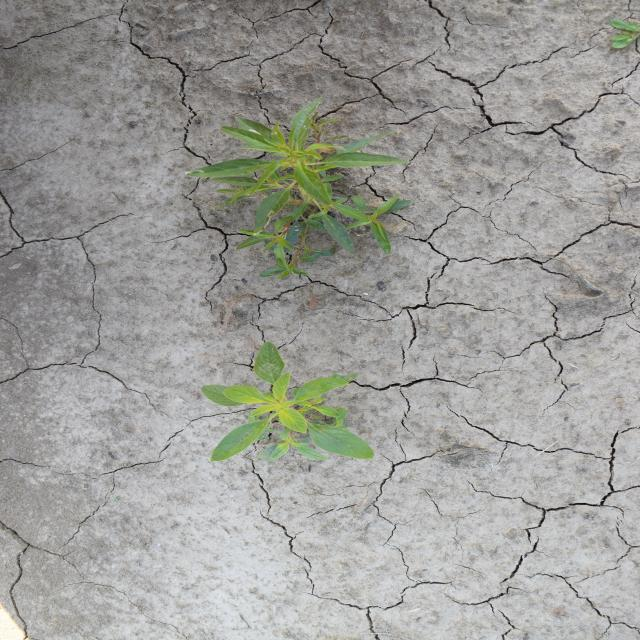Waterhemp: (180, 95, 417, 281), (199, 341, 377, 465)
